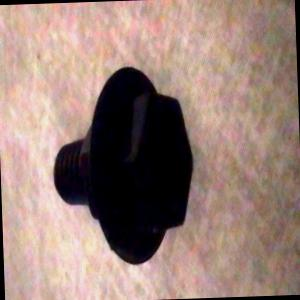parafuso: (46, 61, 198, 272)
